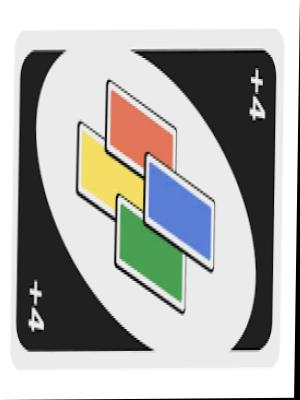wild-4: (11, 35, 282, 372)
